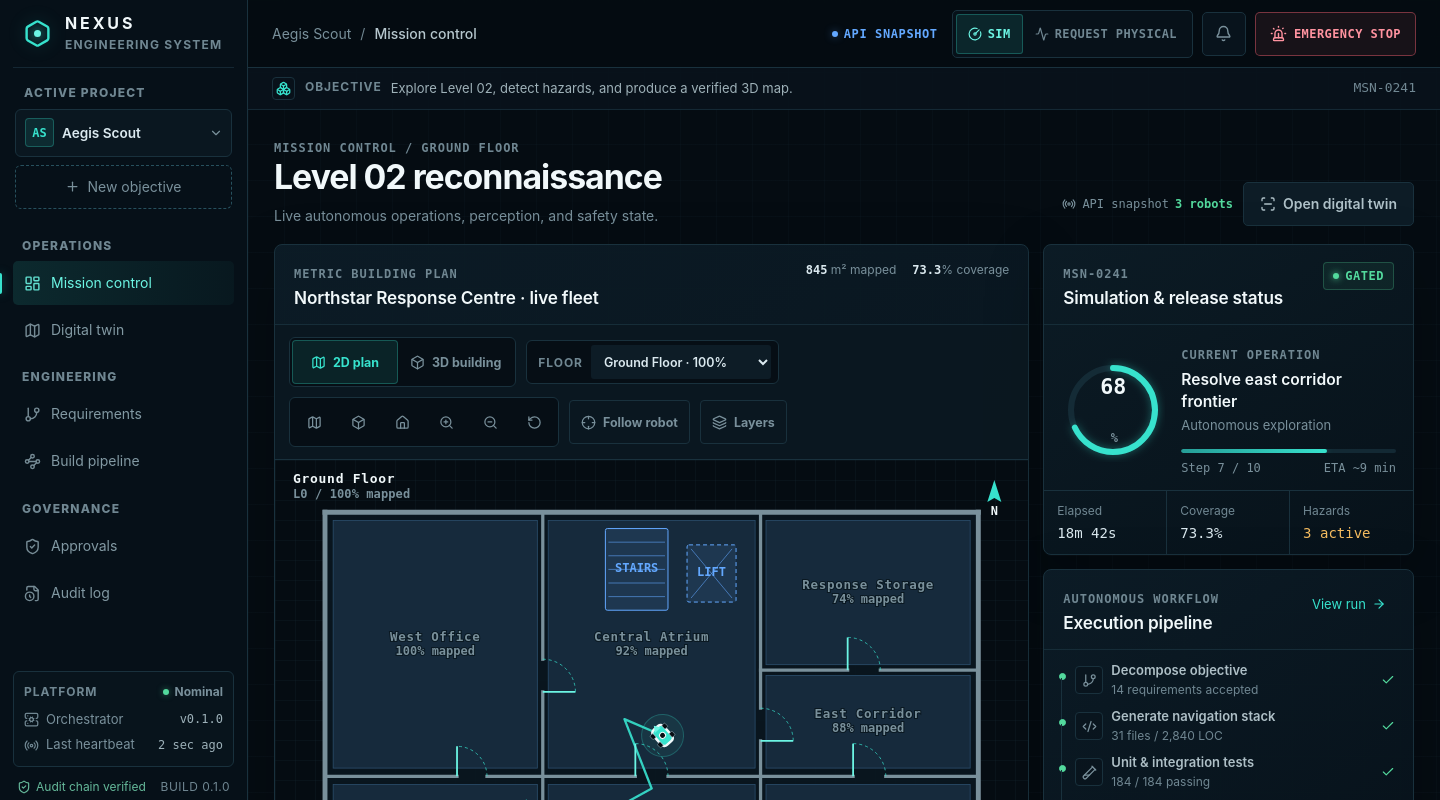
Scenario: NEXUS operations console › routes an empty notification inbox to the audit log
Expected: the text "API SNAPSHOT" is shown, [827, 26, 943, 40]
Click the button named "Open audit log": (1224, 34) [1202, 12, 1246, 56]
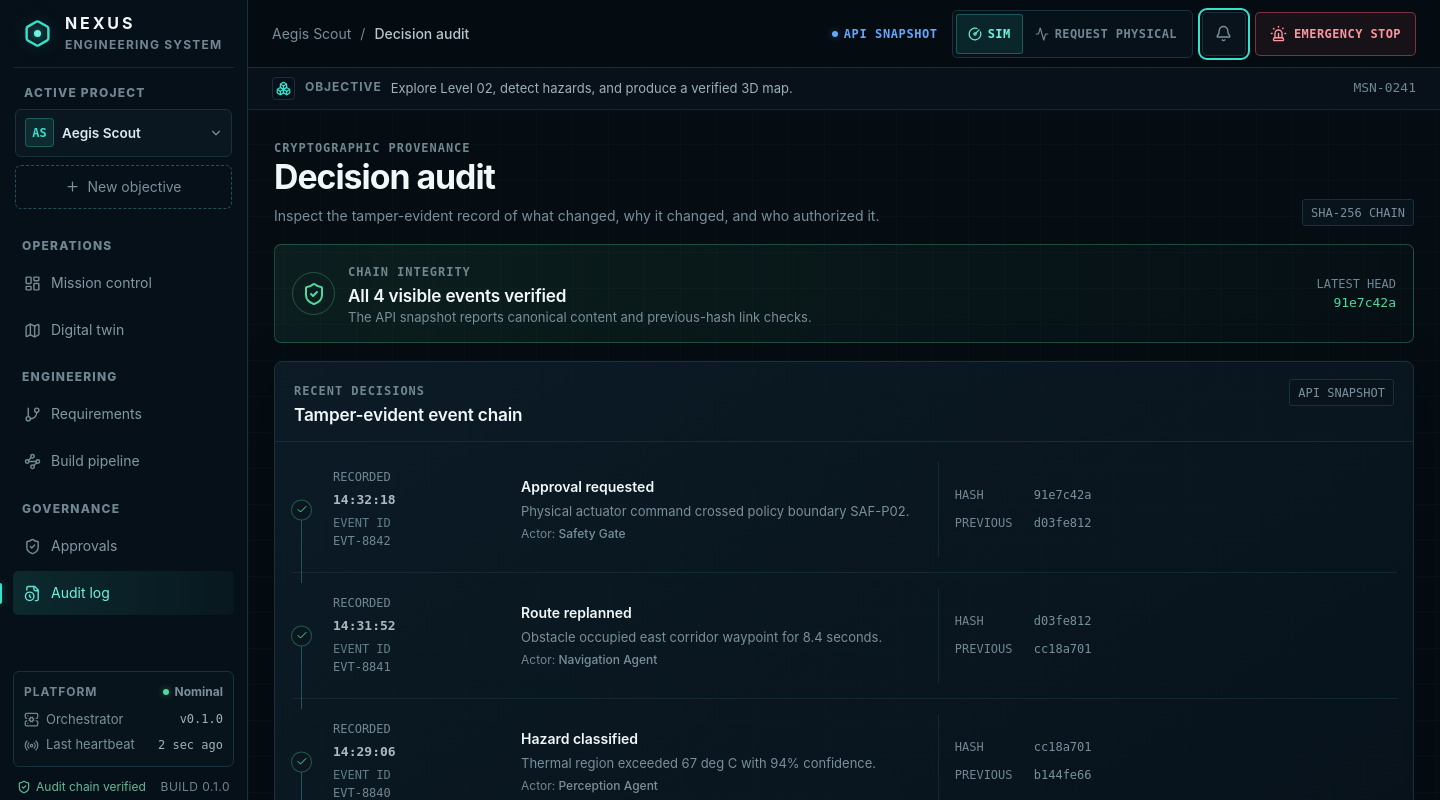
Now the heading "Decision audit" is shown, box [274, 156, 495, 197]
